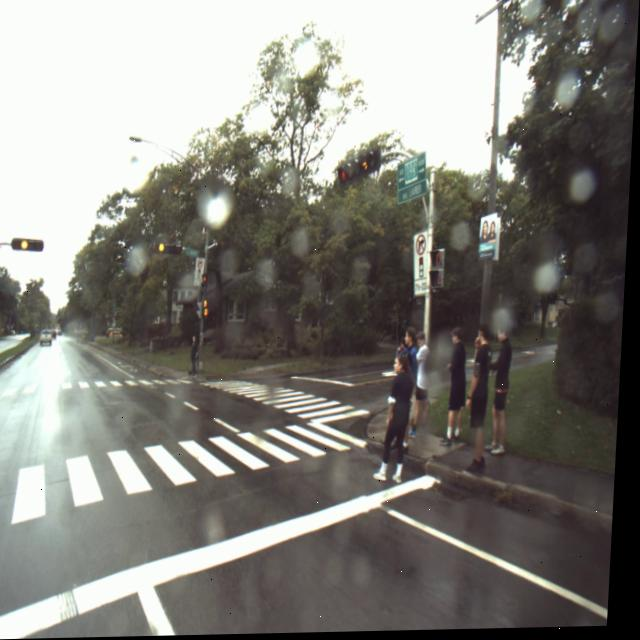car: (339, 163, 360, 186), (42, 330, 57, 346), (0, 330, 3, 344)
pedestrian: (379, 327, 423, 487), (469, 327, 501, 476), (443, 329, 474, 450), (493, 323, 520, 459), (415, 334, 439, 442), (193, 331, 204, 376)
trafficLight: (361, 156, 381, 177), (20, 238, 35, 250), (206, 300, 214, 320), (160, 242, 171, 256)
trafficLight-Red: (204, 272, 212, 289)
